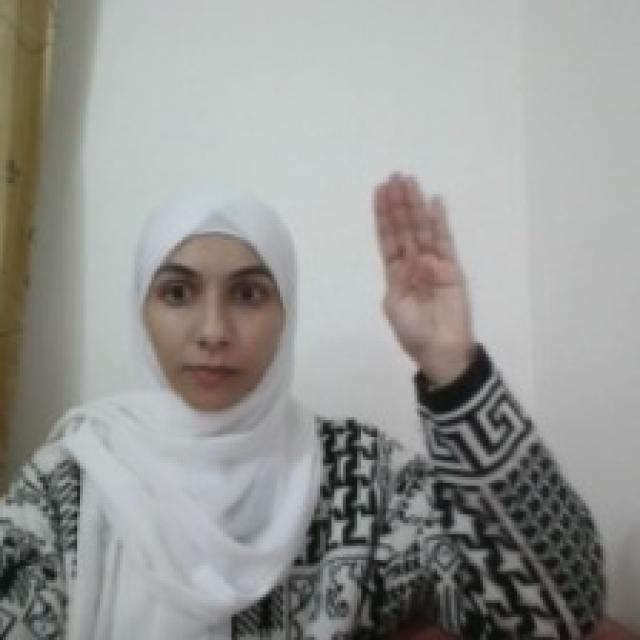Thanks: (367, 167, 478, 366)
